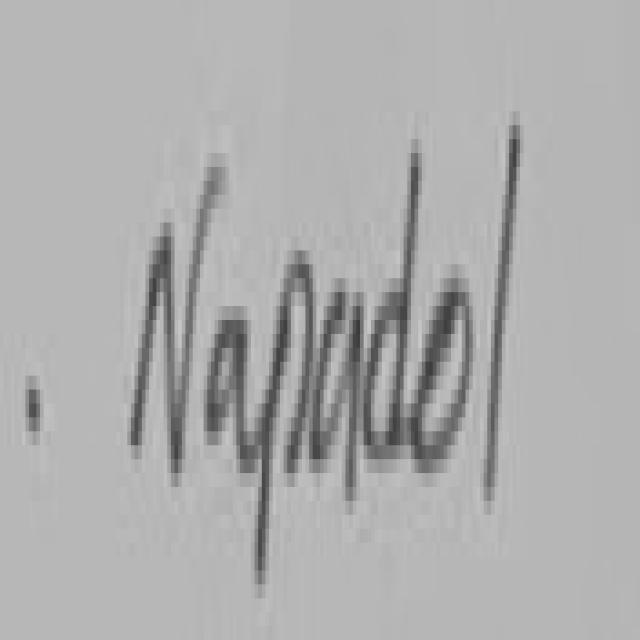N: (131, 167, 225, 466)
a: (313, 292, 364, 494), (207, 320, 258, 473)
d: (364, 153, 422, 459)
l: (487, 125, 524, 494)
o: (411, 292, 473, 473)
p: (258, 264, 316, 577)
